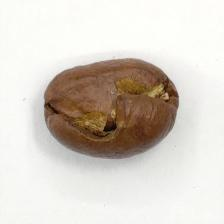NG: (45, 72, 173, 145)
